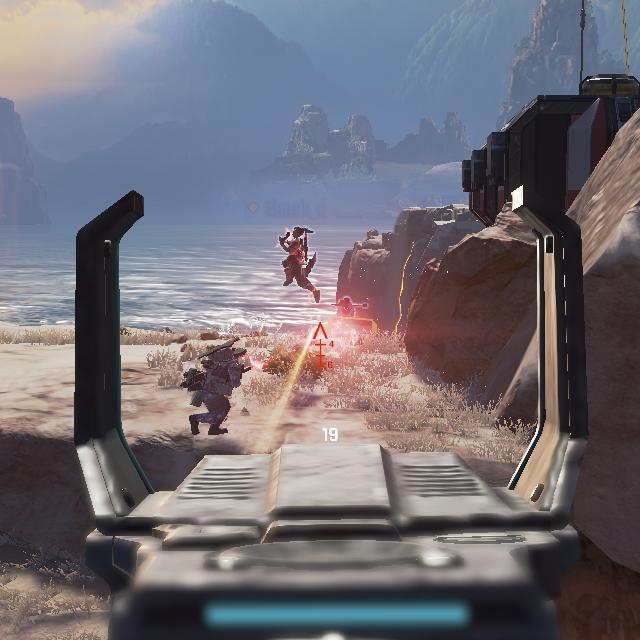avatar: (185, 343, 251, 438), (280, 224, 311, 291)
